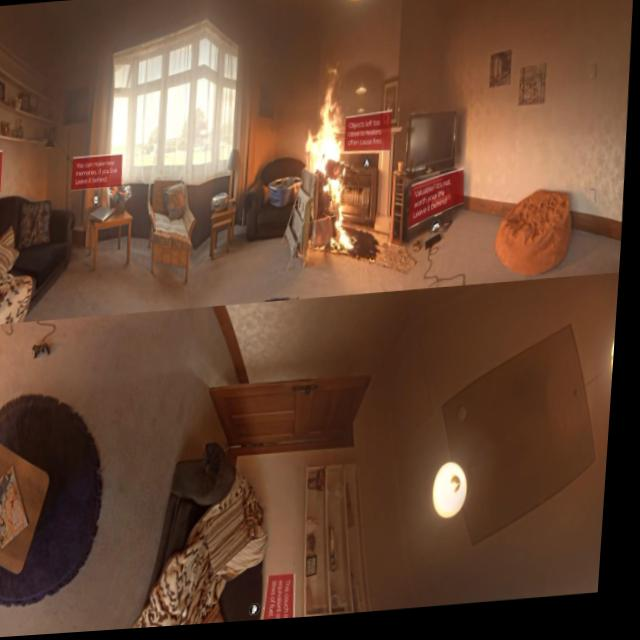fire: (301, 65, 369, 260)
